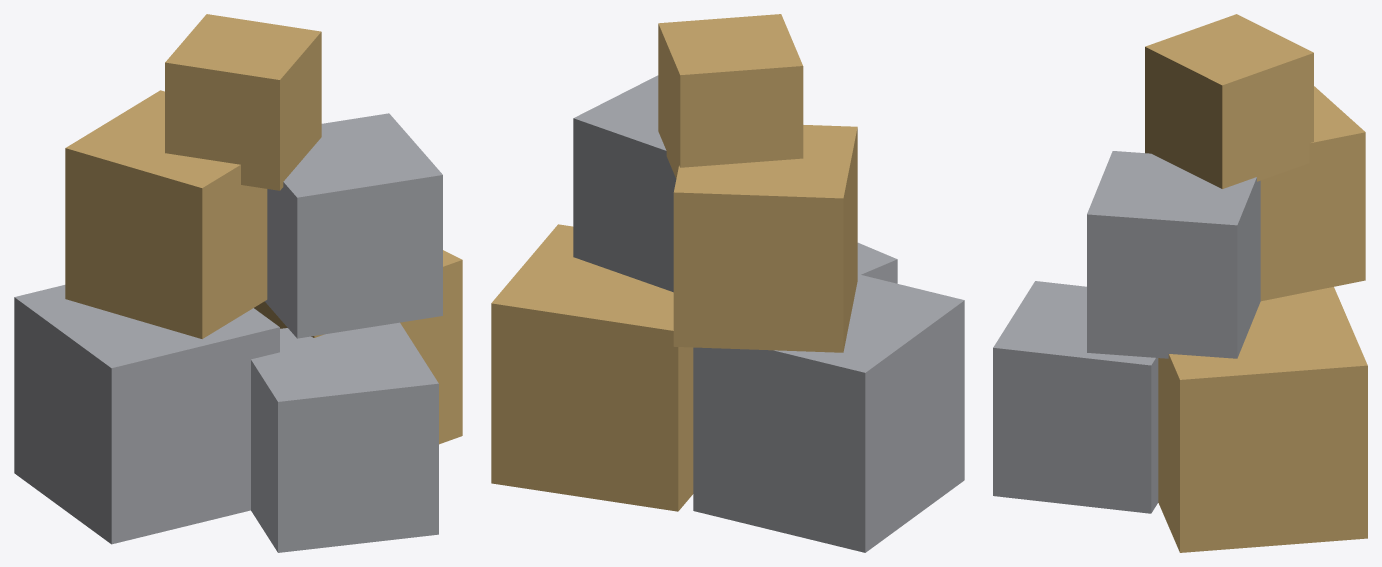
File: PropCrates.fbx
The picture shows the model from 3 angles, left to right: view 1: azimuth 30°, elevation 25°; view 2: azimuth 150°, elevation 25°; view 3: azimuth 270°, elevation 25°; orthographic projection. The views are drawn at different scales.
Visible parts, largest first — view 1: Crates_Bot_01, Crates_Bot_03, Crates_Mid_01, Crates_Mid_02, Crates_Top_01, Crates_Bot_02; view 2: Crates_Bot_01, Crates_Bot_02, Crates_Mid_01, Crates_Top_01, Crates_Mid_02, Crates_Bot_03; view 3: Crates_Bot_02, Crates_Mid_02, Crates_Bot_03, Crates_Top_01, Crates_Mid_01.
Part boxes in pixels (box(x1,y1,x2,y2)): Crates_Bot_01: box(14, 285, 279, 544); Crates_Bot_03: box(251, 322, 438, 552); Crates_Mid_01: box(65, 90, 267, 338); Crates_Mid_02: box(265, 113, 442, 338); Crates_Top_01: box(165, 14, 321, 190); Crates_Bot_02: box(254, 250, 462, 444); Crates_Bot_01: box(693, 274, 964, 552); Crates_Bot_02: box(491, 224, 693, 511); Crates_Mid_01: box(673, 125, 857, 352); Crates_Top_01: box(658, 14, 803, 178); Crates_Mid_02: box(573, 75, 676, 292); Crates_Bot_03: box(857, 242, 897, 283); Crates_Bot_02: box(1158, 287, 1367, 552); Crates_Mid_02: box(1087, 151, 1260, 358); Crates_Bot_03: box(993, 281, 1158, 513); Crates_Top_01: box(1145, 14, 1313, 188); Crates_Mid_01: box(1260, 86, 1365, 301).
Size of the model in its own units: 0.7785 by 0.83 by 0.687.
